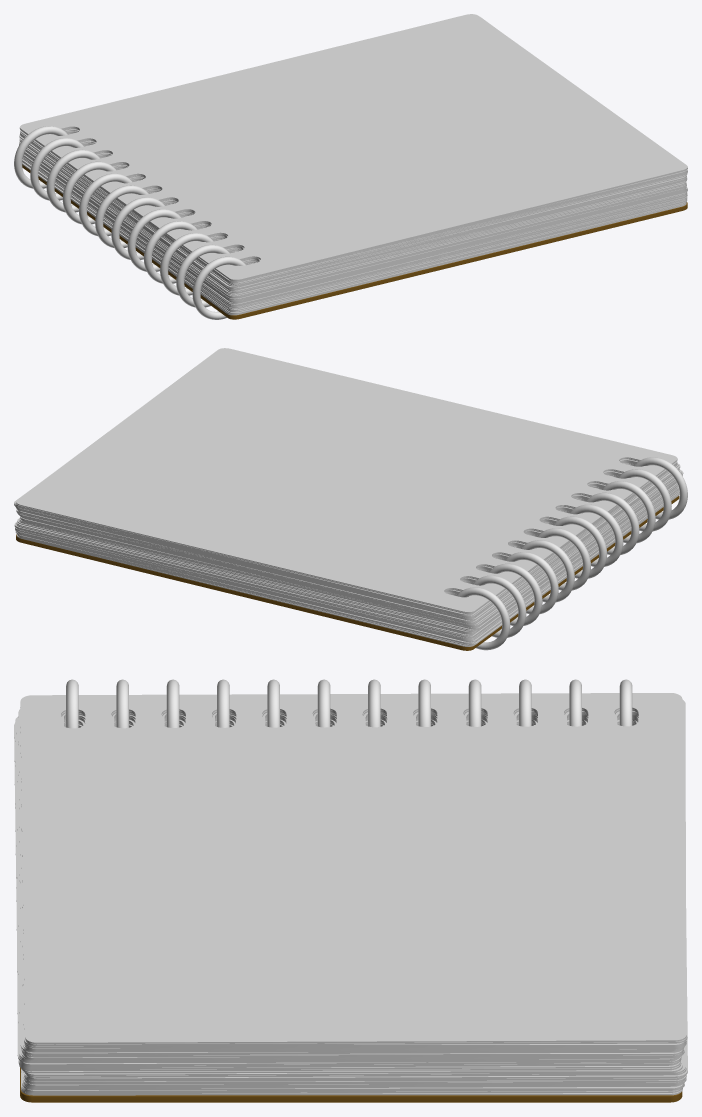
The model's file is notebook.glb.
3 renders of one model, top to bottom at view 1: azimuth 30°, elevation 25°; view 2: azimuth 150°, elevation 25°; view 3: azimuth 270°, elevation 25°, orthographic. The views are drawn at different scales.
Visible parts, largest first — view 1: Plane_0, BezierCircle_2, Plane.001_1; view 2: Plane_0, BezierCircle_2, Plane.001_1; view 3: Plane_0, BezierCircle_2, Plane.001_1.
Boxes of the visible parts, box(x1,y1,x2,y2) form: Plane_0: box(19, 14, 687, 315); BezierCircle_2: box(14, 126, 245, 319); Plane.001_1: box(22, 164, 687, 319); Plane_0: box(14, 348, 683, 646); BezierCircle_2: box(457, 457, 687, 650); Plane.001_1: box(16, 496, 679, 650); Plane_0: box(14, 693, 687, 1095); BezierCircle_2: box(66, 679, 632, 728); Plane.001_1: box(20, 1067, 682, 1102).
Size of the model in its own units: 2.61 by 0.3162 by 2.04.
